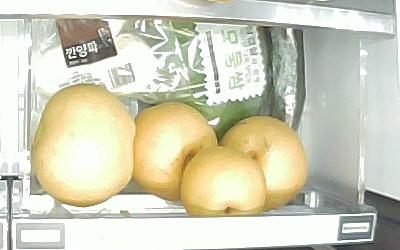pear: (31, 84, 135, 208), (133, 102, 218, 202), (219, 116, 308, 209), (180, 146, 267, 217)
